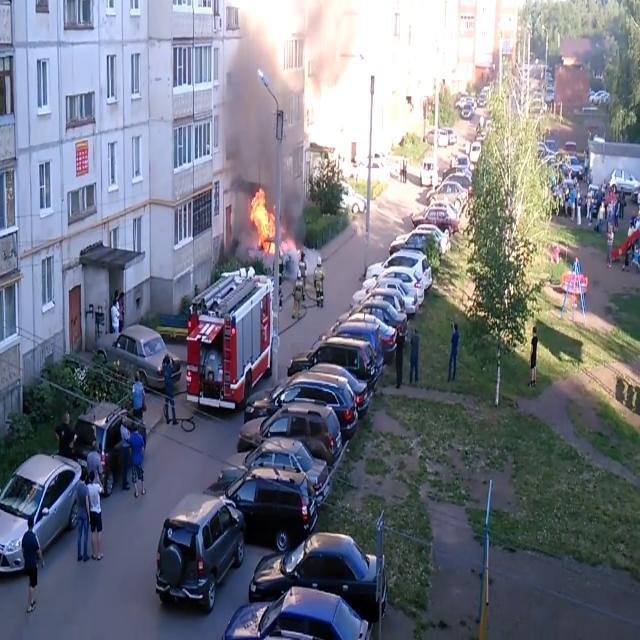Fire: (248, 183, 278, 248)
Smoke: (215, 8, 307, 240)
